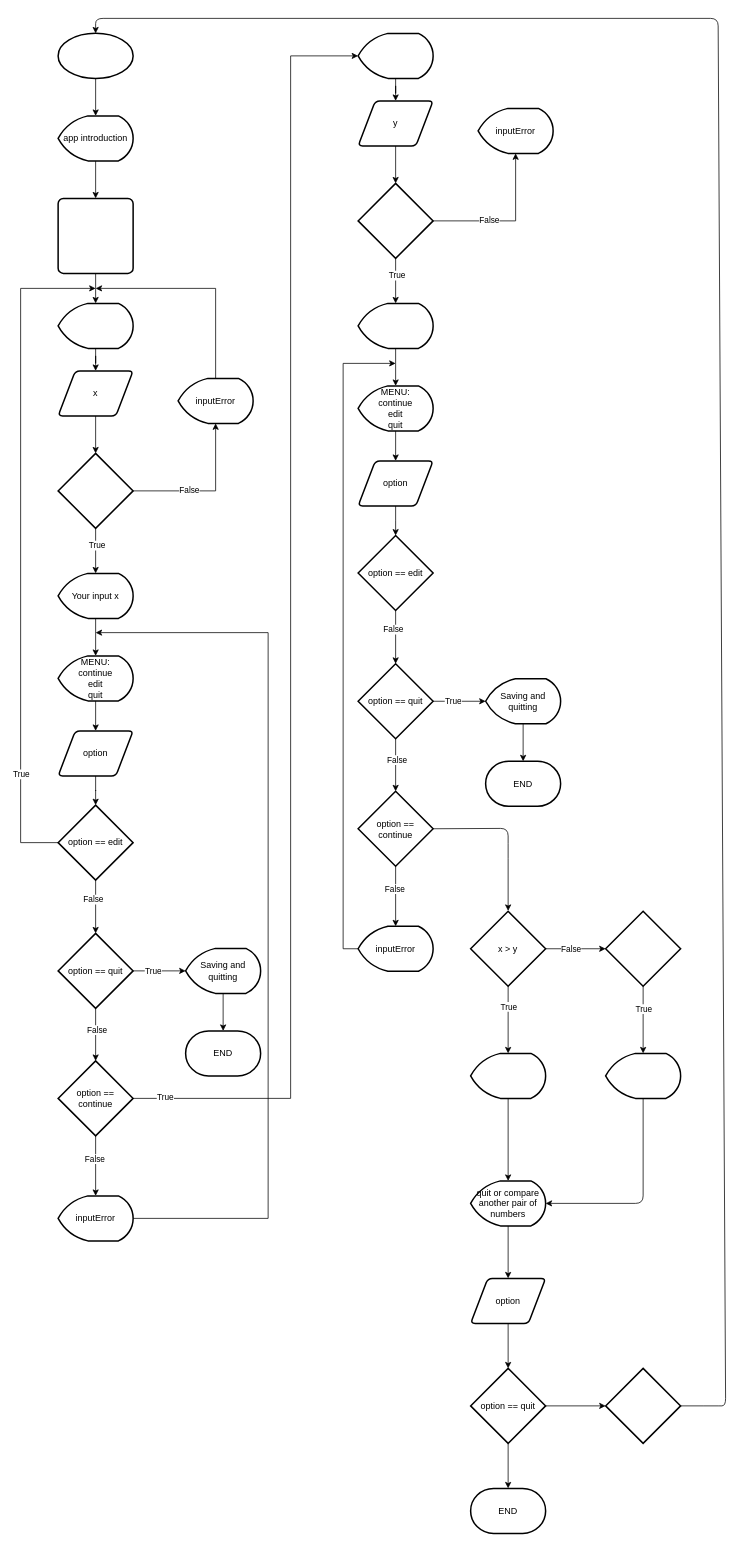
This 745x1547 diagram has some shape labels left out. Each missing label, with the centre of its shape:
"input first whole number from 0 to 100" goes at point 95,325.
"input second whole number from 0 to 100" goes at point 395,55.
"option == compare another" goes at point 642,1405.
"START porovnavac hodnot" goes at point 95,55.
"The number x is greater than y" goes at point 508,1075.
"The number y is greater than x" goes at point 642,1075.
"x < y" goes at point 642,948.
"x == n; n E Z AND n >= 0 AND n <= 100" goes at point 95,490.
"x E Z y E Z" goes at point 95,235.
"y == n; n E Z AND n >= 0 AND n <= 100" goes at point 395,220.
"Your input y" goes at point 395,325.
